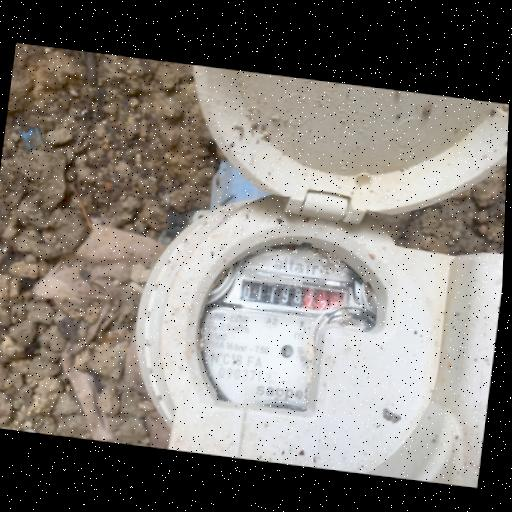0: (240, 280, 255, 302)
1: (302, 287, 318, 310), (315, 289, 331, 312), (251, 281, 266, 303), (263, 285, 279, 305)
5: (328, 290, 345, 312)
8: (290, 287, 306, 309)
9: (276, 286, 294, 307)
border_water_meter_number: (221, 265, 352, 318)
